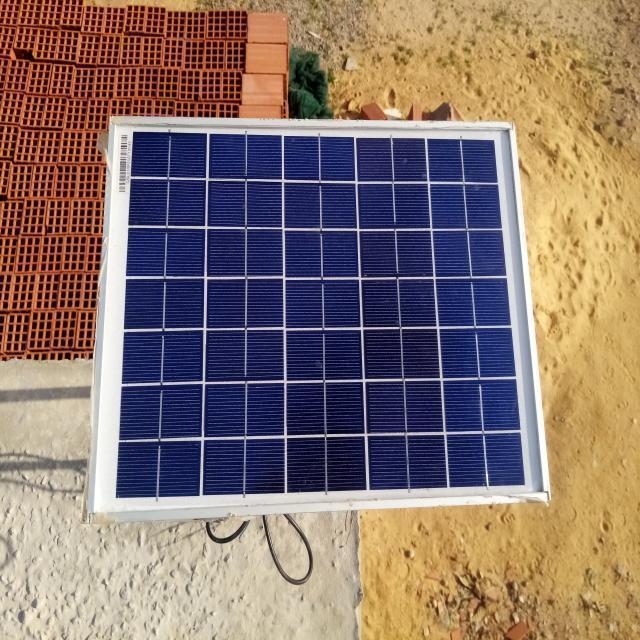Normal Solar Panel: (89, 121, 548, 521)
